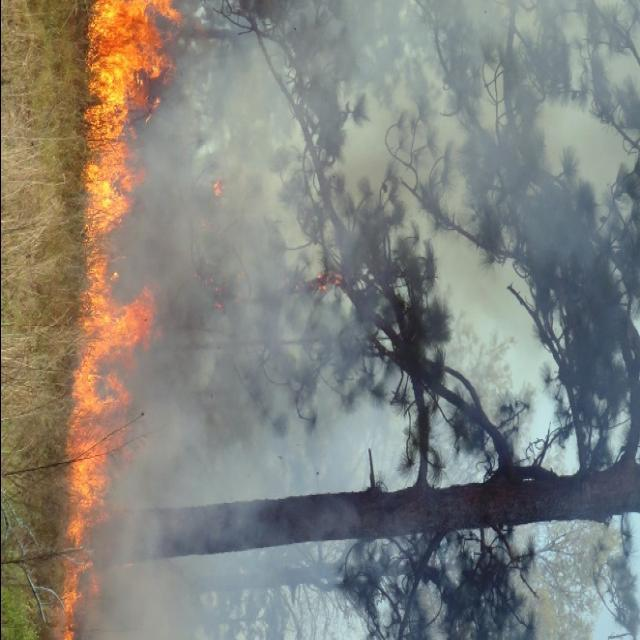Fire: (73, 2, 172, 640)
